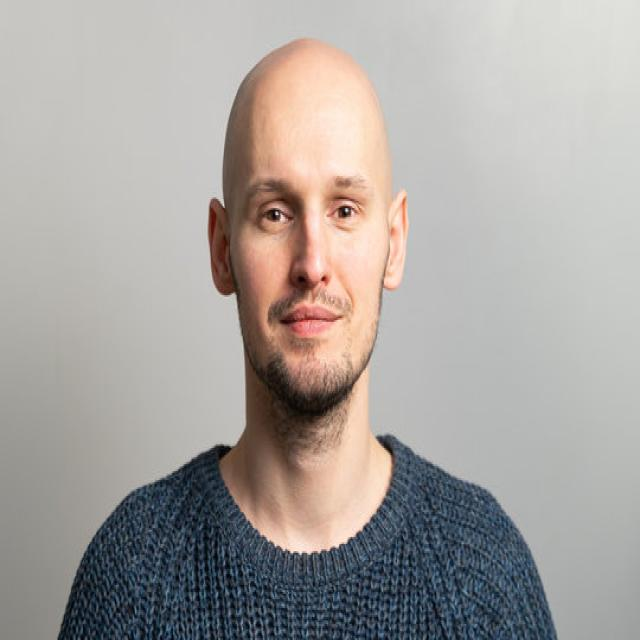Nonhelmet: (199, 28, 416, 431)
